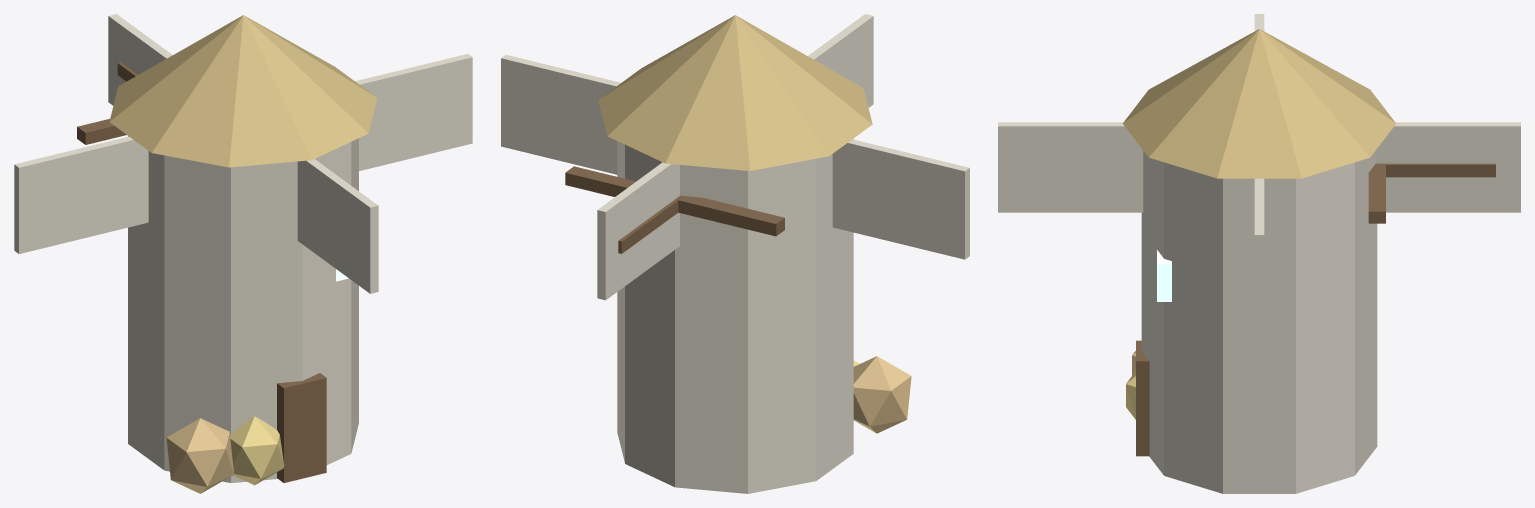
Rendered from windmill.glb.
3 views of the same model, side by side, from view 1: azimuth 30°, elevation 25°; view 2: azimuth 150°, elevation 25°; view 3: azimuth 270°, elevation 25° (orthographic). The views are drawn at different scales.
Visible parts, largest first — view 1: MillTower; view 2: MillTower; view 3: MillTower.
Boxes of the visible parts, bbox=[...] form: MillTower: bbox=[14, 14, 472, 493]; MillTower: bbox=[501, 14, 969, 493]; MillTower: bbox=[998, 14, 1520, 493].
Bounding box in the file's own units: 2.75 × 2.45 × 2.75.
